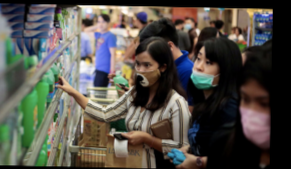mask_weared_incorrect: (189, 49, 219, 90)
with_mask: (236, 85, 270, 145), (133, 57, 161, 87)
without_mask: (96, 18, 109, 32)
